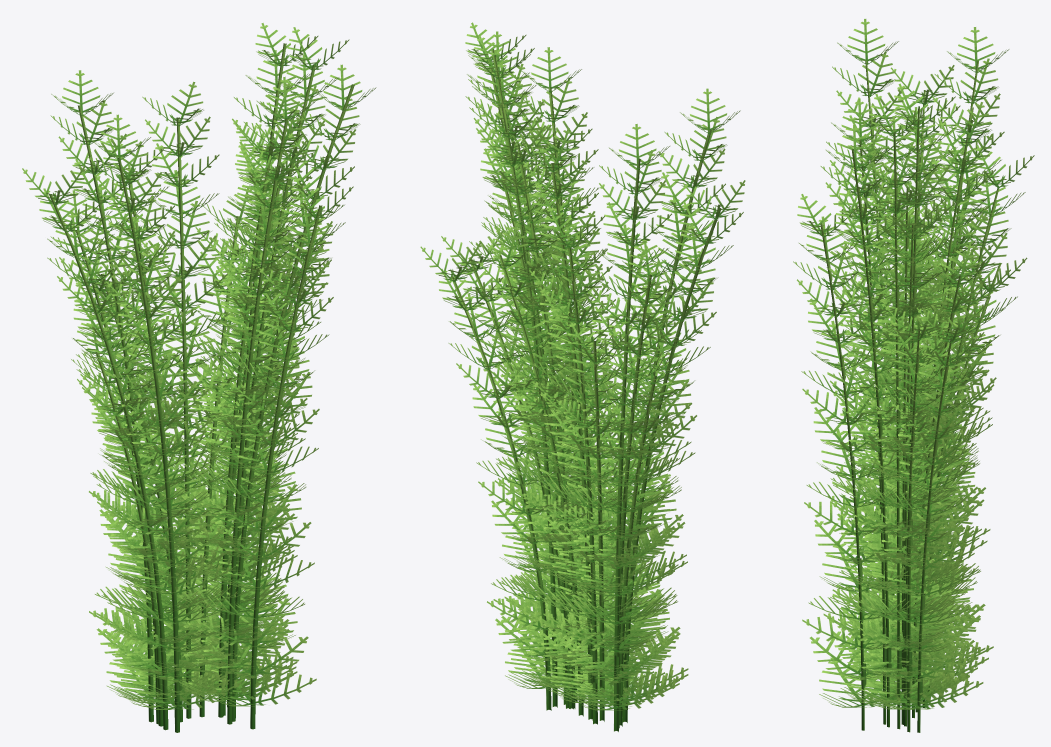
File: cabomba.glb
The picture shows the model from 3 angles, left to right: view 1: azimuth 30°, elevation 25°; view 2: azimuth 150°, elevation 25°; view 3: azimuth 270°, elevation 25°; orthographic projection.
Visible parts, largest first — view 1: SwayCabomba0, SwayCabomba1; view 2: SwayCabomba1, SwayCabomba0; view 3: SwayCabomba0, SwayCabomba1.
Part boxes in pixels (x1=…): SwayCabomba0: x1=22, y1=23, x2=376, y2=730; SwayCabomba1: x1=50, y1=70, x2=332, y2=732; SwayCabomba1: x1=420, y1=88, x2=740, y2=731; SwayCabomba0: x1=465, y1=22, x2=745, y2=724; SwayCabomba0: x1=793, y1=65, x2=1034, y2=732; SwayCabomba1: x1=832, y1=19, x2=1009, y2=732.
Bounding box in the file's own units: 1.63 × 3.23 × 1.11.
1 material, 1 textured.
